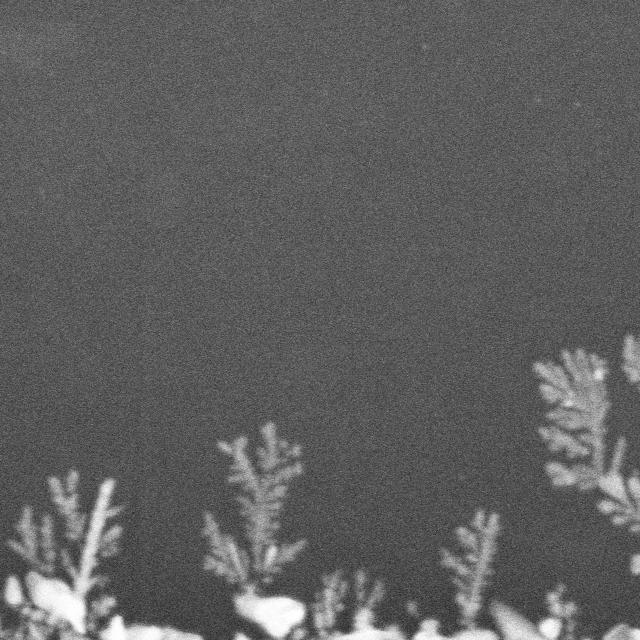Dendrite: (0, 470, 218, 640), (203, 422, 307, 640), (406, 509, 513, 640), (295, 570, 421, 640), (487, 584, 603, 640)
